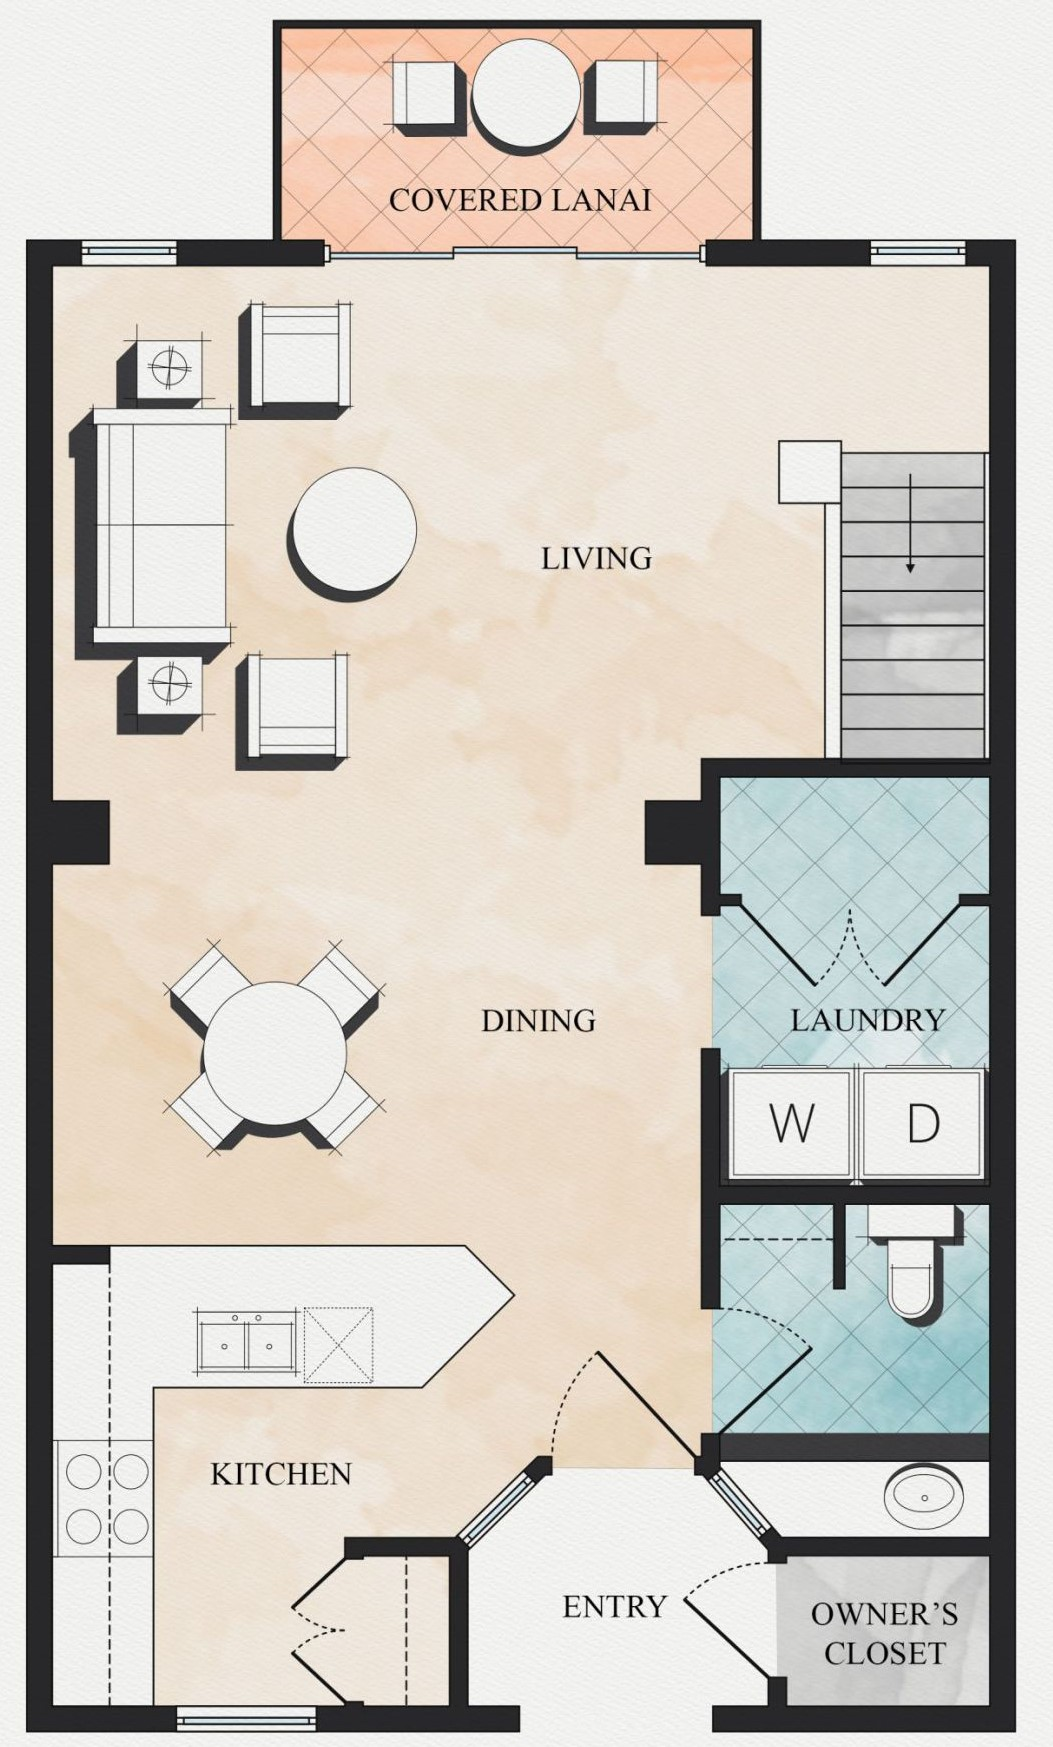wall: (24, 240, 57, 1730), (989, 243, 1016, 1732), (706, 1433, 1022, 1464), (716, 1702, 1001, 1732), (769, 1532, 1003, 1567), (697, 759, 1019, 782), (702, 1178, 1011, 1202), (24, 792, 119, 862), (445, 1549, 479, 1716), (700, 1046, 719, 1316), (319, 1710, 519, 1732), (649, 800, 714, 864), (173, 240, 319, 267), (27, 1702, 165, 1730), (702, 243, 876, 265), (341, 1532, 465, 1559), (969, 240, 1022, 273), (22, 237, 76, 270), (833, 1194, 846, 1289), (46, 1248, 106, 1267)
